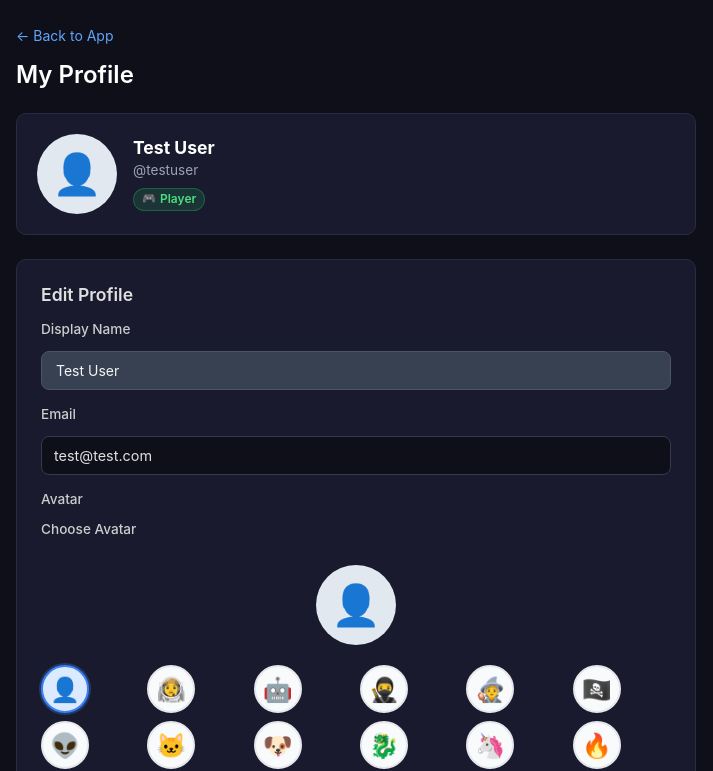
Scenario: ProfileView › shows error for empty display name
The width and height of the screenshot is (713, 771).
Clear the field with test id "profile-displayname": [356, 370] box 41,351 -> 671,390
(page scrolled)
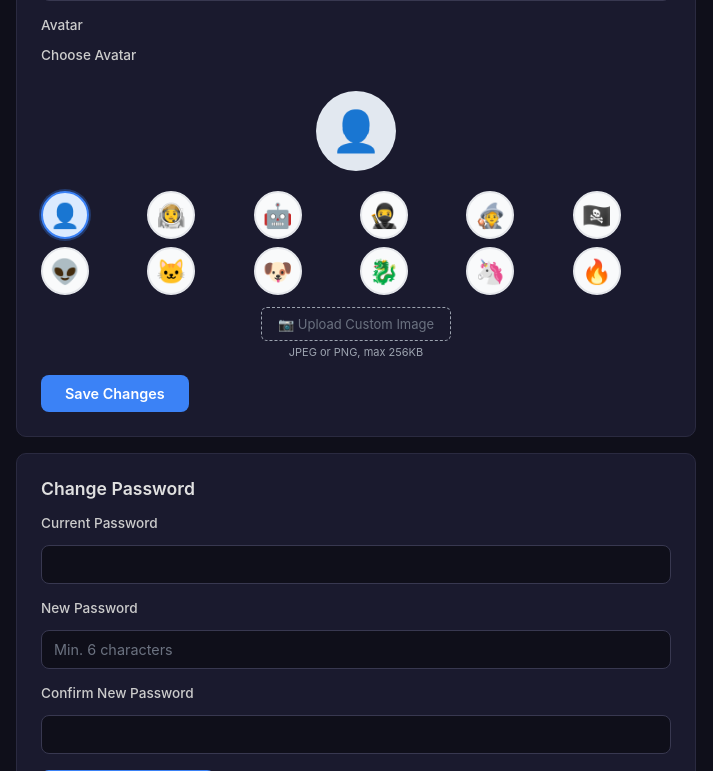
Click the button with test id "profile-save": [115, 394] box 41,375 -> 189,412
(page scrolled)
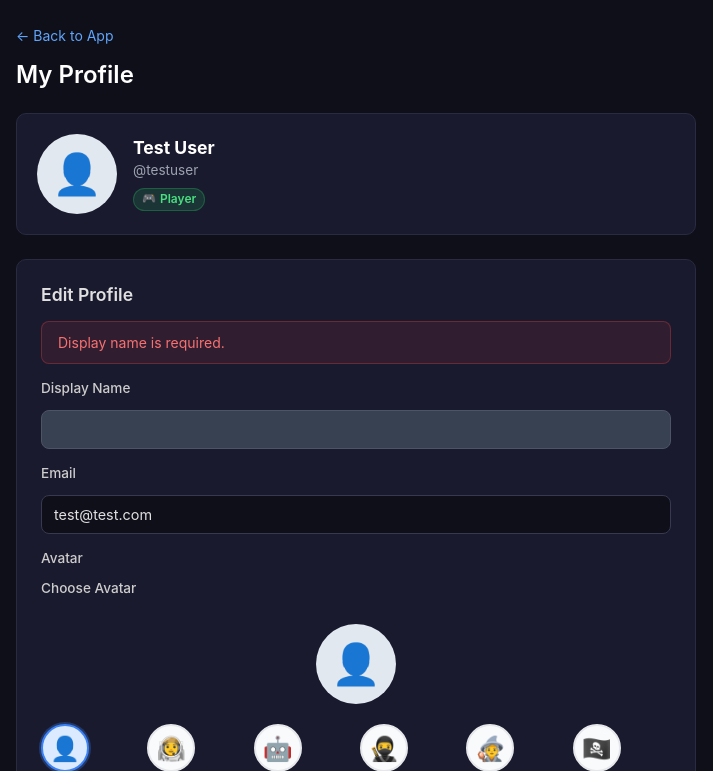
Now the message with test id "profile-error" shows "Display name is required", box 58,334 -> 225,351
